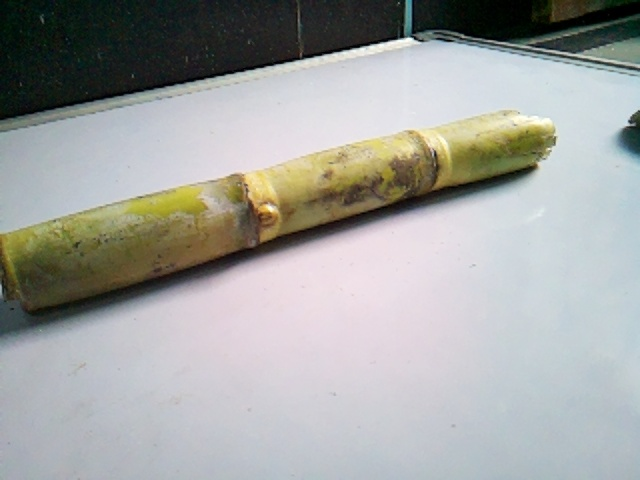Good Sugarcane: (4, 108, 559, 318)
Node: (386, 123, 460, 201), (210, 171, 283, 248)
